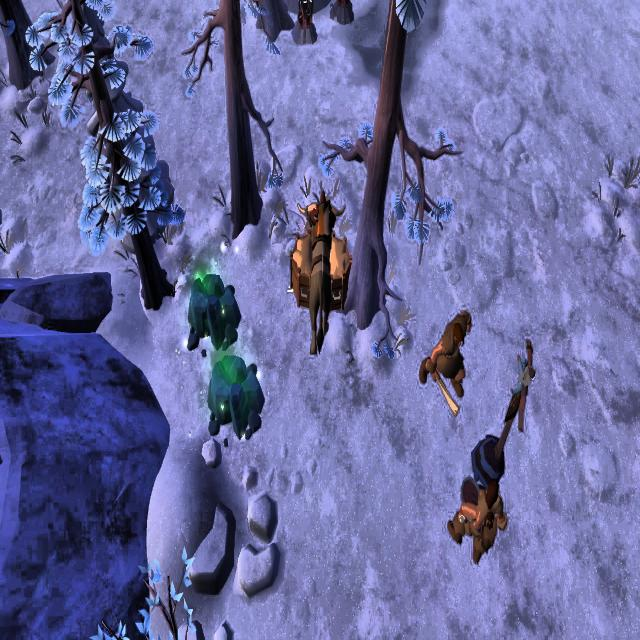enemy_factionKeeper: (441, 471, 509, 569), (421, 307, 469, 401)
ore_t5: (296, 0, 316, 36)
rock_t4: (206, 356, 267, 437), (185, 265, 242, 342)
